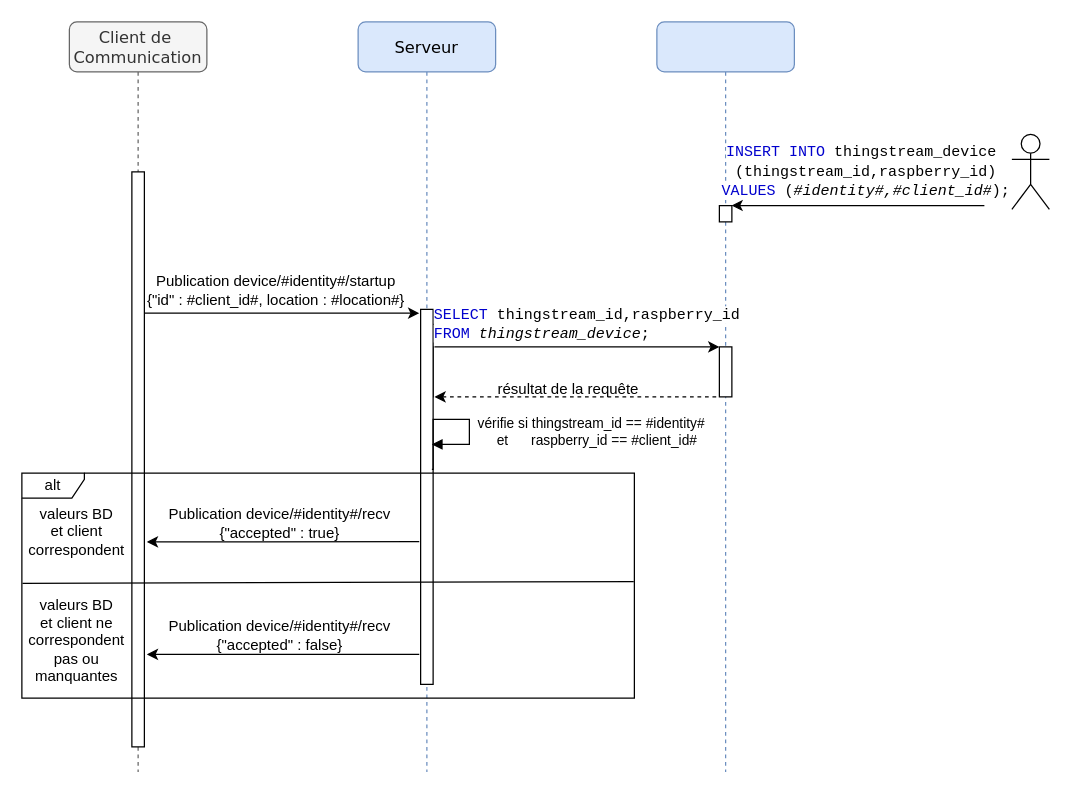
This 1088x794 diagram has some shape labels left out. Here are the shapes that lost their labels. From the top down, the centre of each, then its label:
At point 1030,171: "Technicien".
At point 725,396: "Base de données".
